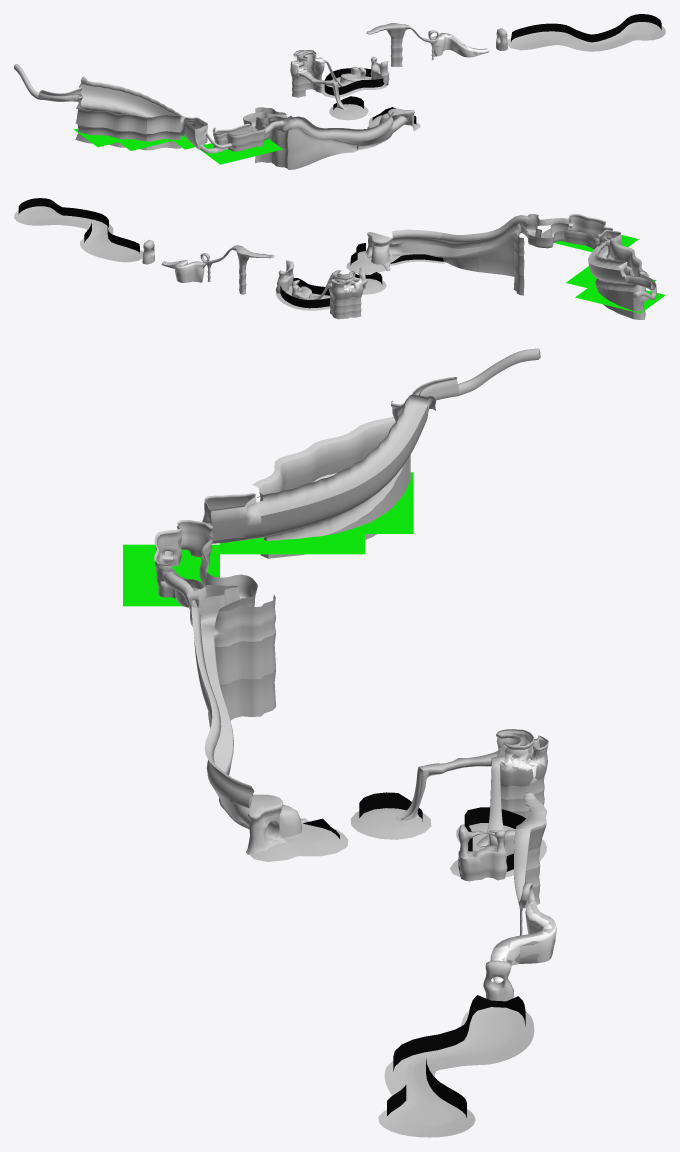
Rendered from eco2.obj.
The picture shows the model from 3 angles, top to bottom: view 1: azimuth 30°, elevation 25°; view 2: azimuth 150°, elevation 25°; view 3: azimuth 270°, elevation 25°; orthographic projection. The views are drawn at different scales.
Visible parts, largest first — view 1: object_000AE494, object_0009B498, object_000B6660, object_000DB444, object_0009ED14, object_000DB4AC, object_000DB478, object_00093FAC, object_000AFB84, object_000AF09C, object_000969DC, object_000AD664 (+24 smaller); view 2: object_000AE494, object_000B085C, object_000AD664, object_00093FAC, object_000B6660, object_000C38EC, object_0009B498, object_000AF09C, object_000BAB6C, object_00086874, object_000C792C, object_000AFB84 (+36 smaller); view 3: object_0009C70C, object_000CAC2C, object_000AC8C0, object_0009ED14, object_000DB548, object_000DB478, object_000907A0, object_000D6EC0, object_0009D9F8, object_00095BEC, object_00093FAC, object_00091324 (+11 smaller).
Part boxes in pixels (x1,y1,x2,y2): object_000AE494: (287, 128, 322, 169); object_0009B498: (81, 84, 124, 114); object_000B6660: (227, 125, 266, 151); object_000DB444: (75, 107, 114, 129); object_0009ED14: (121, 93, 161, 117); object_000DB4AC: (146, 114, 180, 133); object_000DB478: (113, 113, 146, 133); object_00093FAC: (507, 32, 550, 50); object_000AFB84: (321, 139, 363, 158); object_000AF09C: (326, 128, 367, 141); object_000969DC: (569, 38, 623, 51); object_000AD664: (290, 116, 328, 140); object_000AE494: (477, 232, 514, 276); object_000B085C: (392, 229, 441, 245); object_000AD664: (480, 215, 527, 246); object_00093FAC: (91, 244, 143, 262); object_000B6660: (568, 213, 606, 237); object_000C38EC: (605, 289, 633, 318); object_0009B498: (595, 266, 634, 291); object_000AF09C: (440, 232, 480, 248); object_000BAB6C: (389, 243, 444, 255); object_00086874: (174, 261, 204, 282); object_000C792C: (535, 223, 568, 248); object_000AFB84: (439, 251, 479, 271); object_0009C70C: (261, 496, 335, 541); object_000CAC2C: (215, 632, 275, 684); object_000AC8C0: (213, 594, 275, 646); object_0009ED14: (331, 458, 396, 532); object_000DB548: (220, 670, 275, 720); object_000DB478: (280, 438, 337, 490); object_000907A0: (248, 823, 348, 861); object_000D6EC0: (246, 794, 286, 854); object_0009D9F8: (210, 496, 262, 543); object_00095BEC: (439, 1035, 529, 1067); object_00093FAC: (461, 1007, 534, 1044); object_00091324: (350, 808, 431, 839).
Size of the model in its own units: 8289 by 1190 by 2508.
